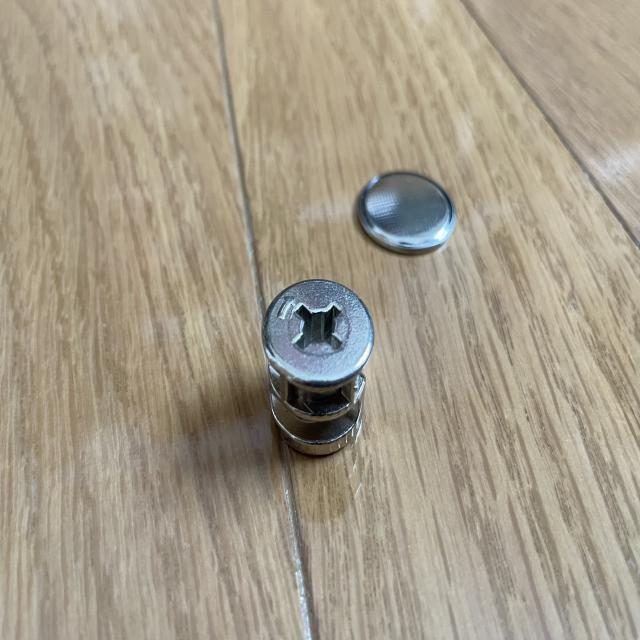COIN: (356, 170, 456, 256)
